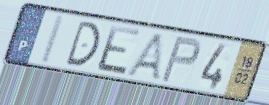4: (198, 41, 227, 92)
A: (124, 32, 165, 83)
D: (63, 19, 102, 68)
E: (95, 23, 143, 78)
I: (37, 13, 68, 67)
P: (158, 35, 203, 85)
